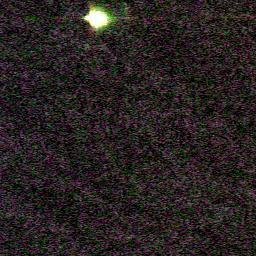Ship: (81, 9, 114, 29)
